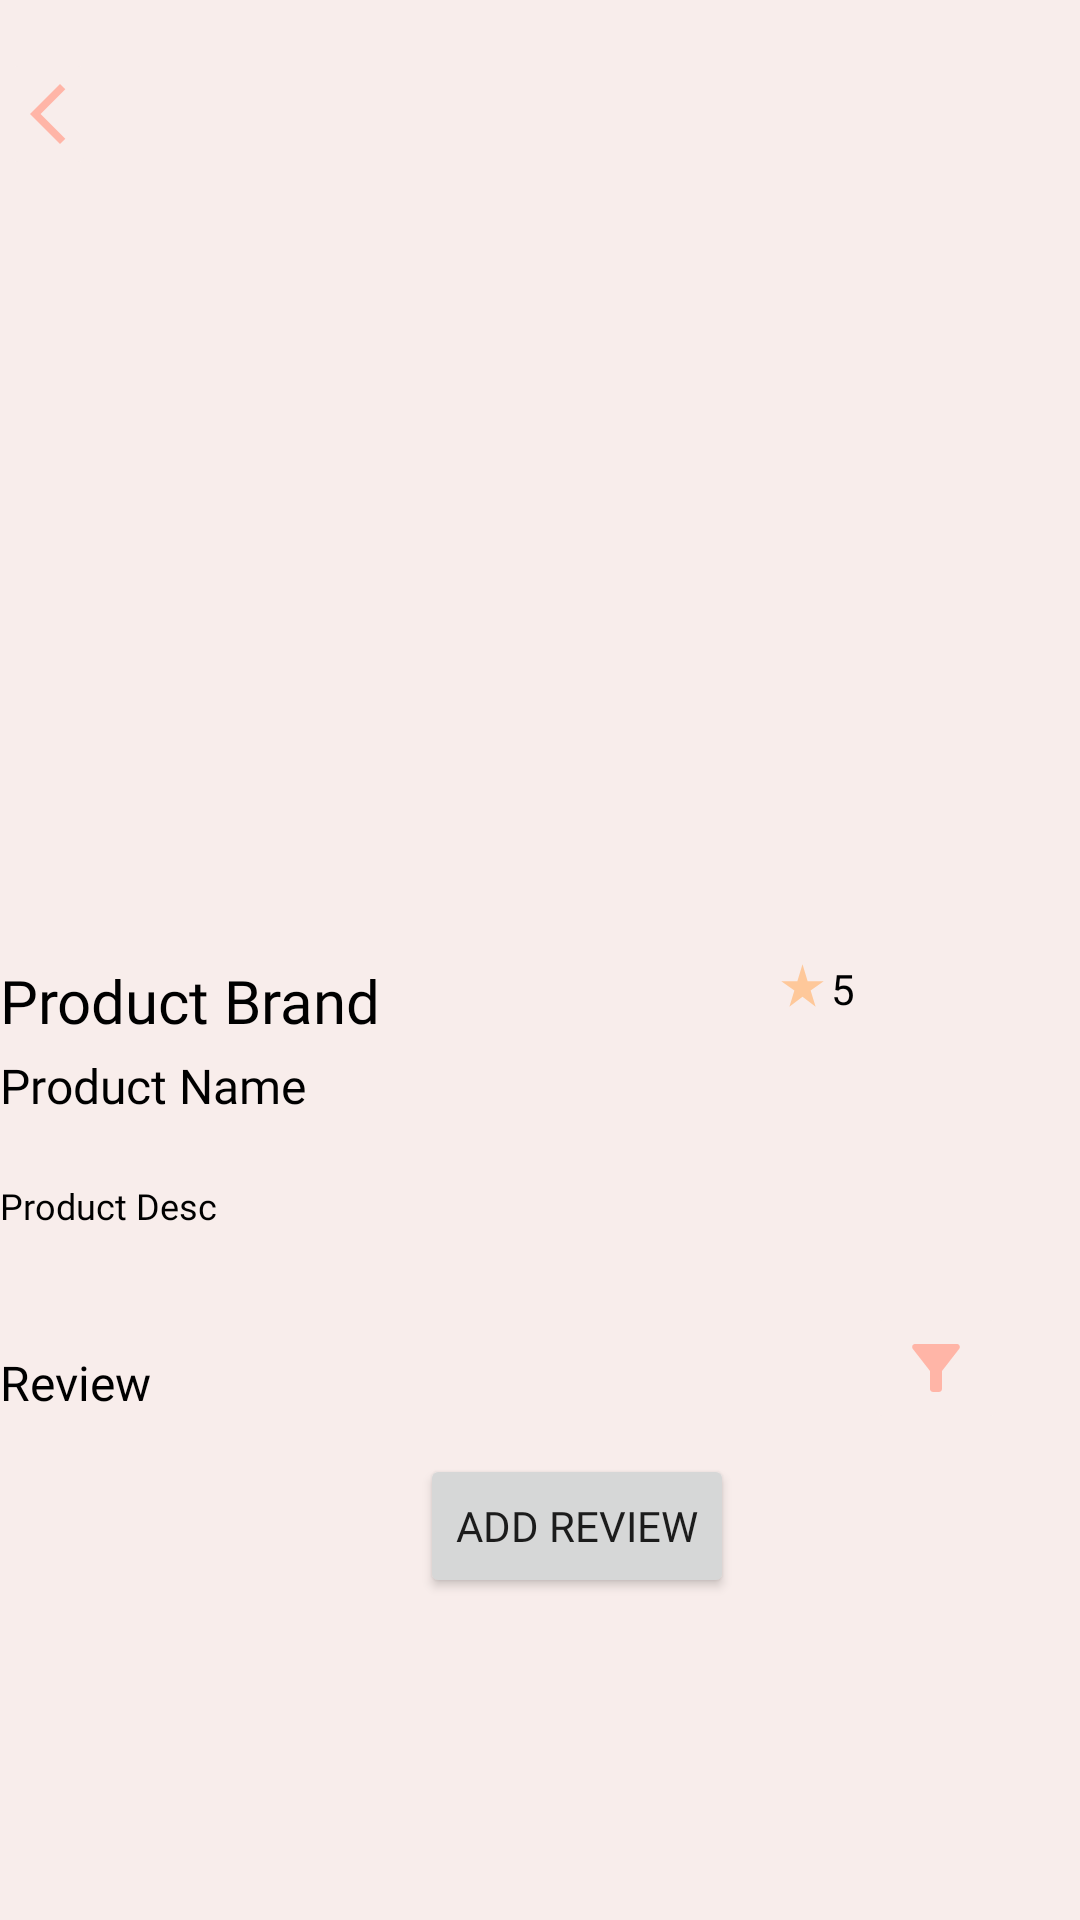

Point at icon controls on the screen. Image size 1080w x 1920h, points as point (x, y).
back: point (47, 114)
filter: point (936, 1368)
